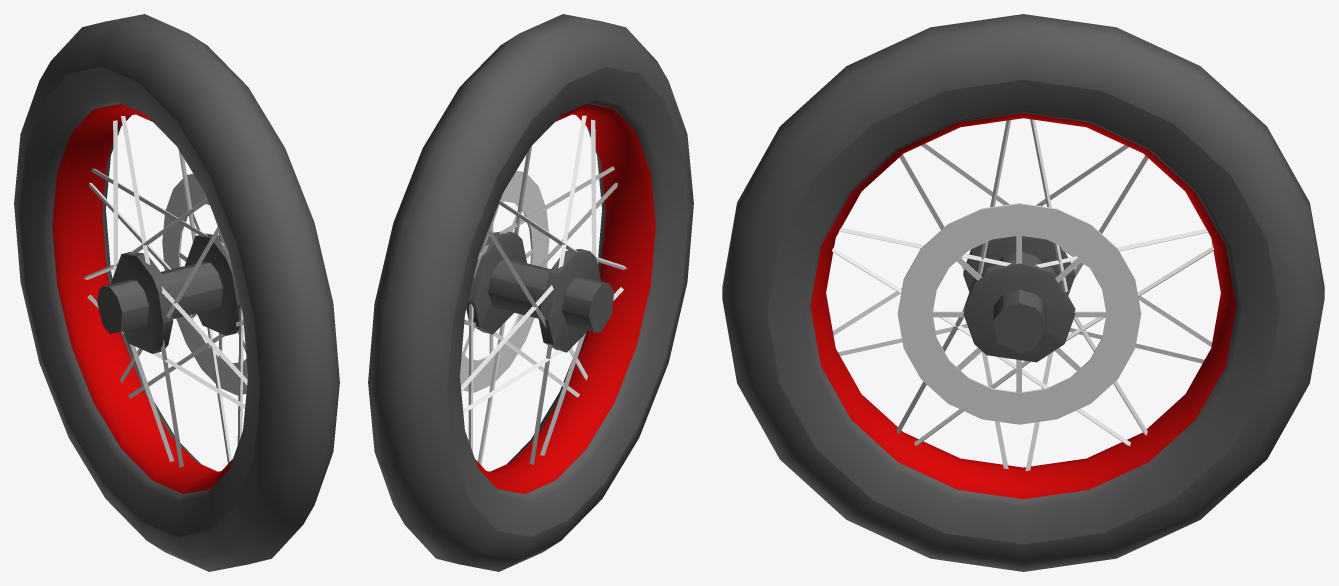
The model's file is bike_chop_wheel_front.fbx.
The picture shows the model from 3 angles, left to right: view 1: azimuth 30°, elevation 25°; view 2: azimuth 150°, elevation 25°; view 3: azimuth 270°, elevation 25°; orthographic projection. The views are drawn at different scales.
Parts seen in each view (by area): view 1: gronWheel; view 2: gronWheel; view 3: gronWheel.
Part boxes in pixels (bbox=[...]): gronWheel: bbox=[14, 14, 339, 571]; gronWheel: bbox=[368, 14, 693, 571]; gronWheel: bbox=[722, 14, 1324, 571].
Size of the model in its own units: 16.62 by 59.13 by 59.13.
